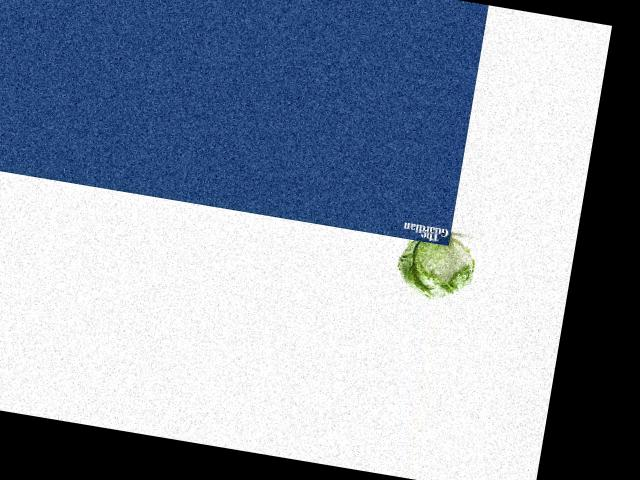lettuce: (394, 229, 478, 308)
